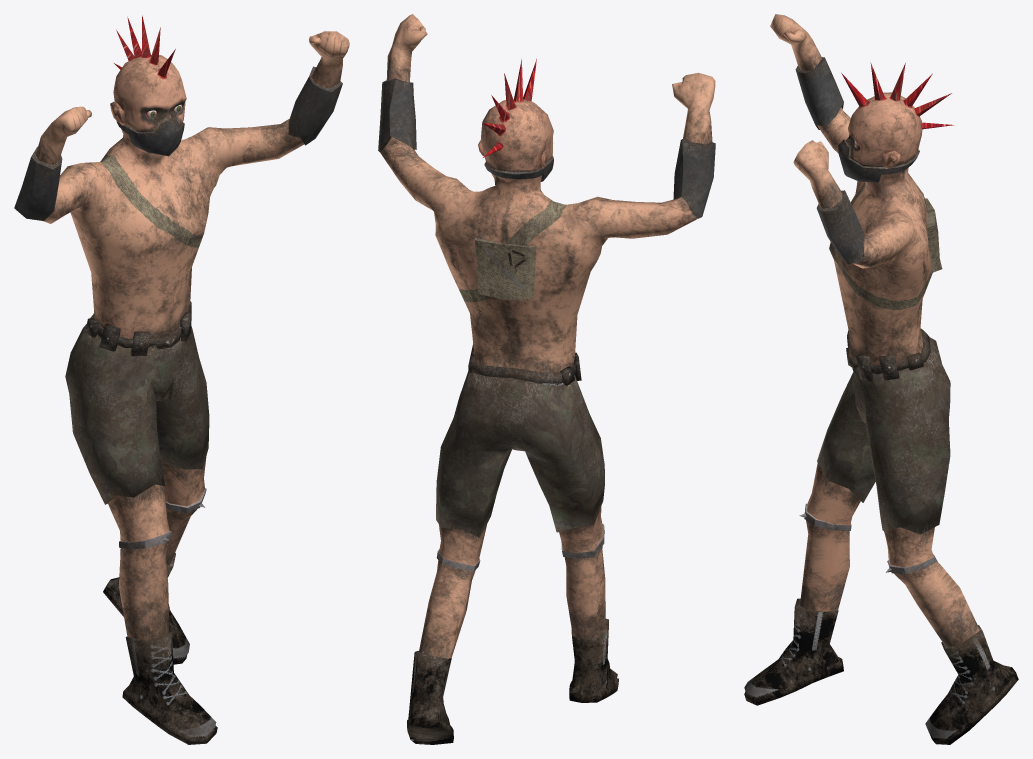
Rendered from Anim_ganar_1_npc2.0022.obj.
3 views of the same model, side by side, from view 1: azimuth 30°, elevation 25°; view 2: azimuth 150°, elevation 25°; view 3: azimuth 270°, elevation 25° (orthographic). The views are drawn at different scales.
Parts seen in each view (by area): view 1: polySurface1; view 2: polySurface1; view 3: polySurface1.
Boxes of the visible parts, bbox=[...] form: polySurface1: bbox=[14, 15, 349, 744]; polySurface1: bbox=[378, 14, 715, 744]; polySurface1: bbox=[744, 14, 1018, 744].
Bounding box in the file's own units: 5.19 × 10.45 × 3.96.
Materials: 2 (2 with a texture image).
